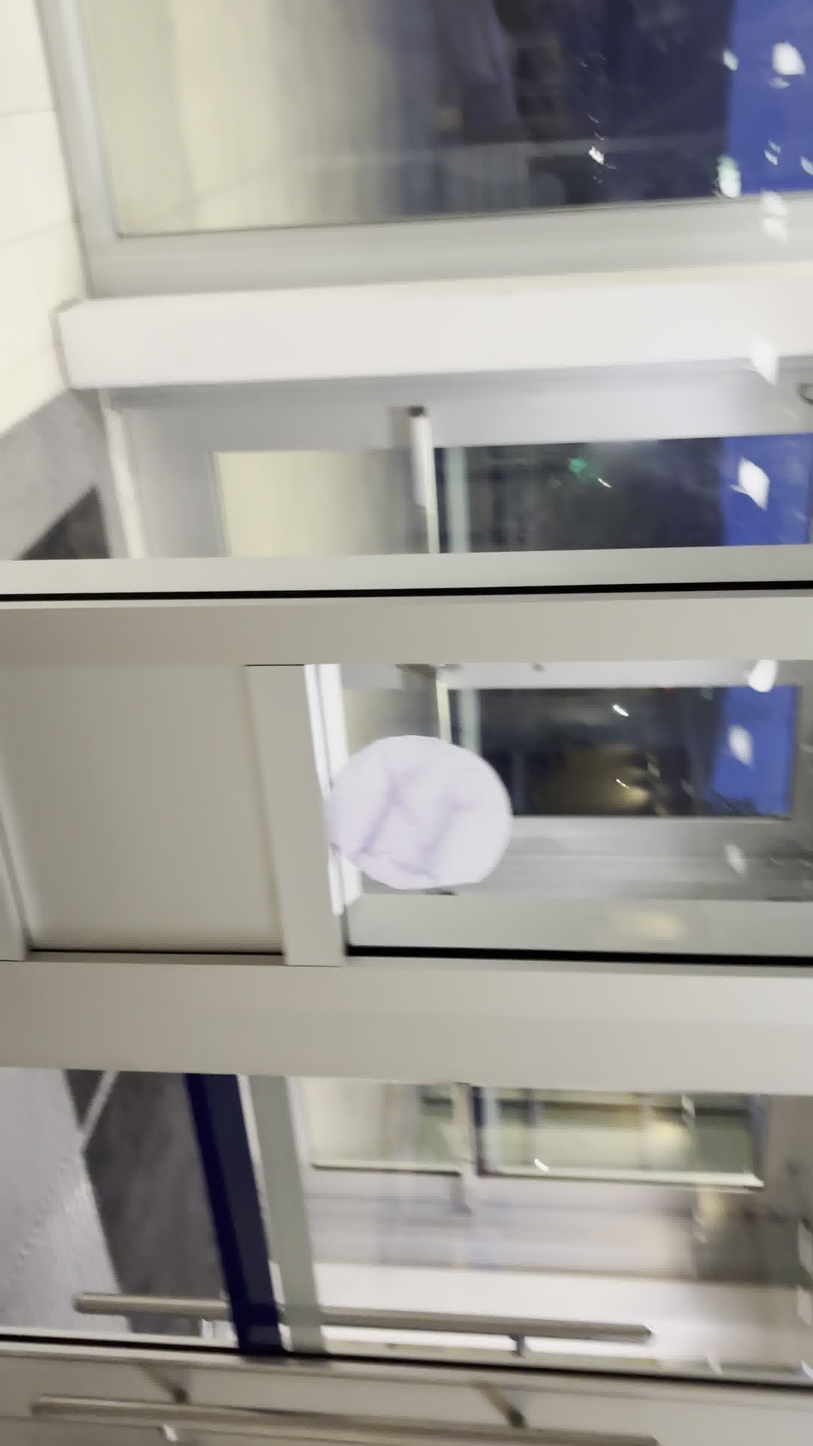Target: (321, 729, 513, 904)
